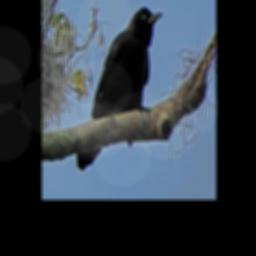Crow: (76, 7, 162, 171)
